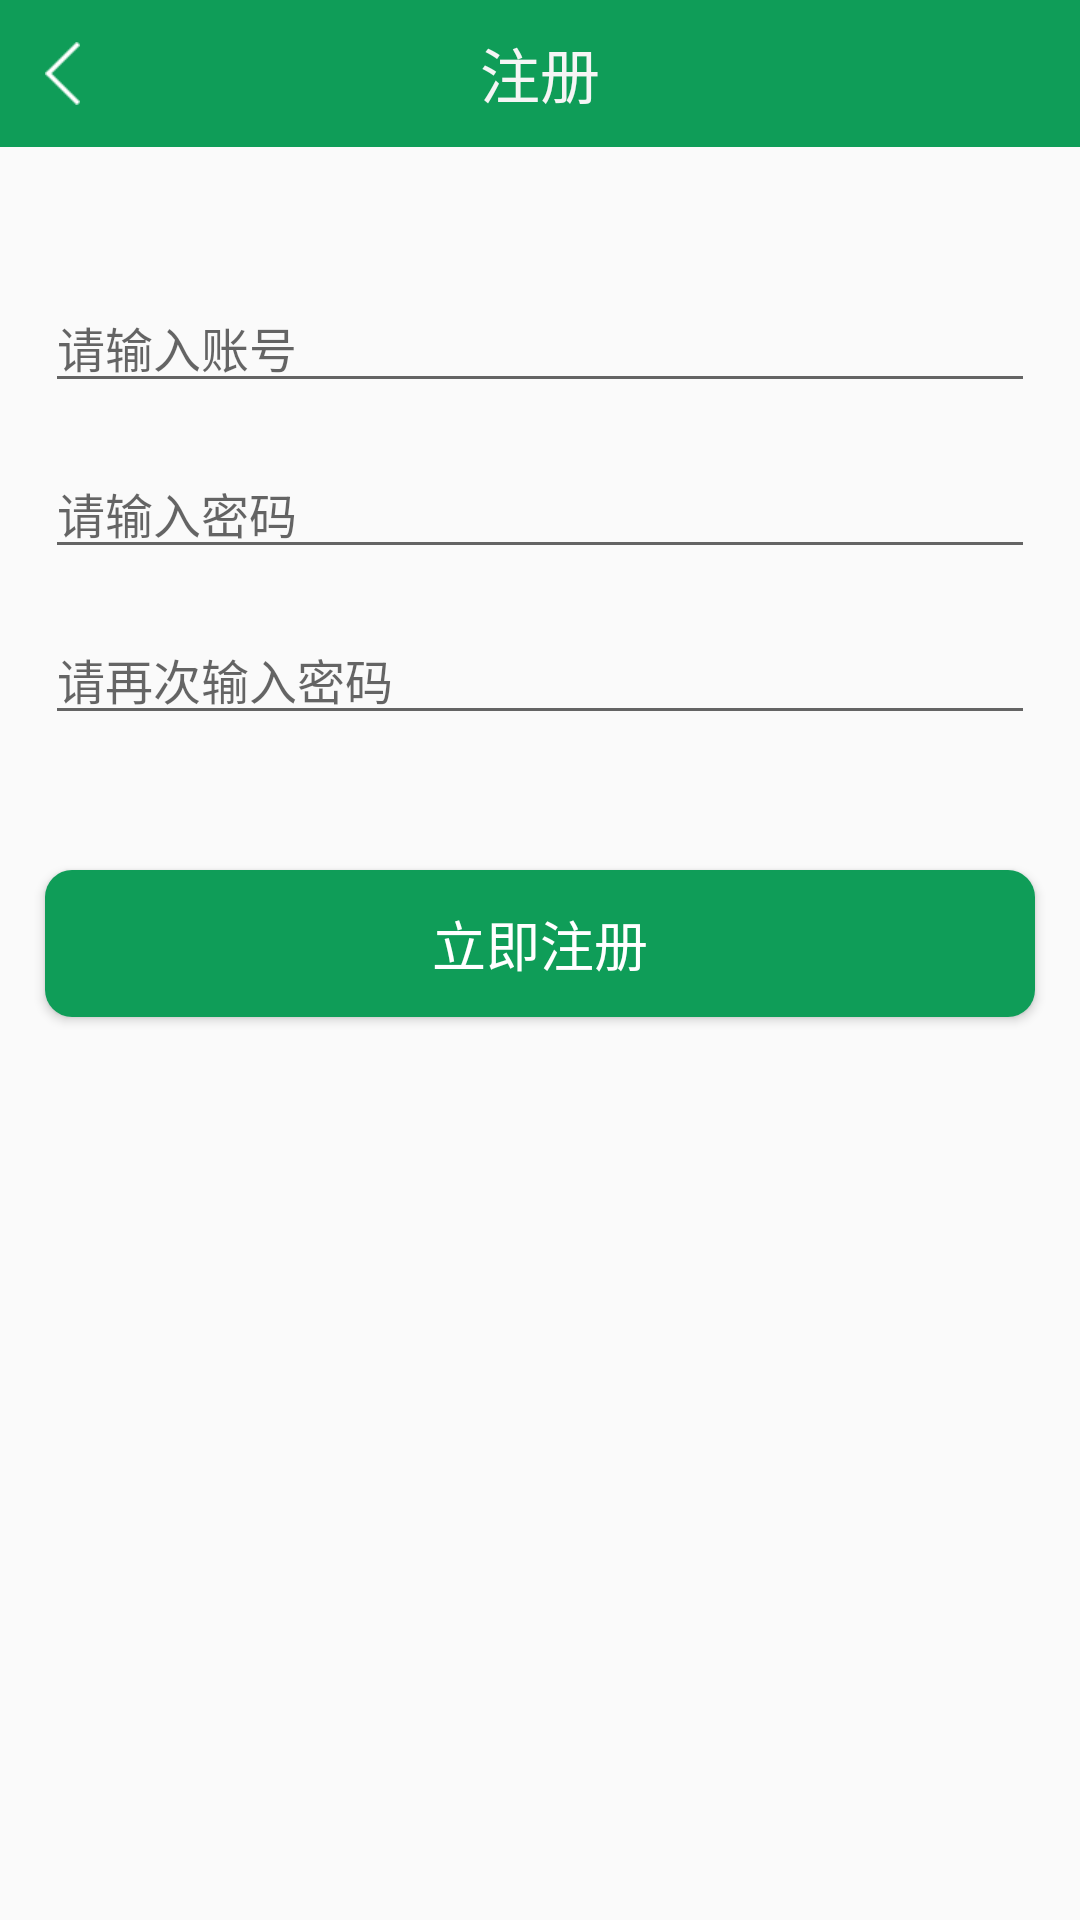

Icons on this 1080 x 1920 Android screen, each with the point to tap as (x,y):
back: (62,73)
